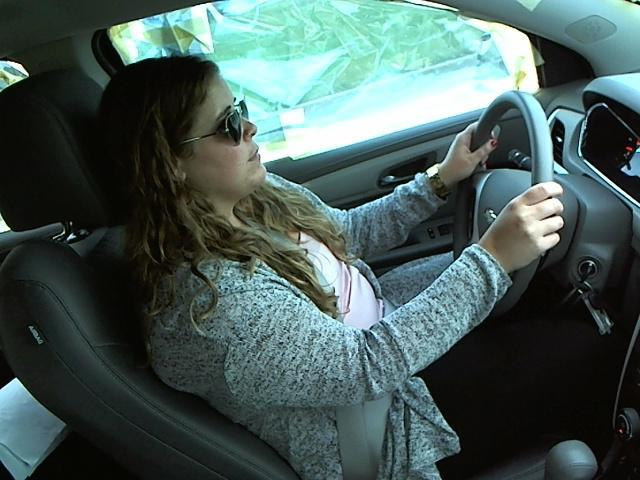c0 - Safe Driving: (87, 49, 571, 385)
